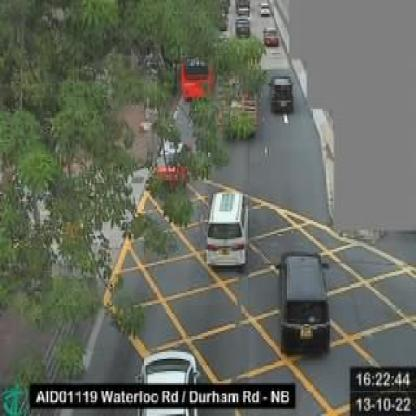Car: (279, 251, 332, 351), (134, 345, 201, 416), (204, 190, 249, 268), (150, 139, 192, 193), (270, 75, 295, 116), (263, 25, 280, 47), (235, 18, 252, 37), (258, 2, 271, 17)
